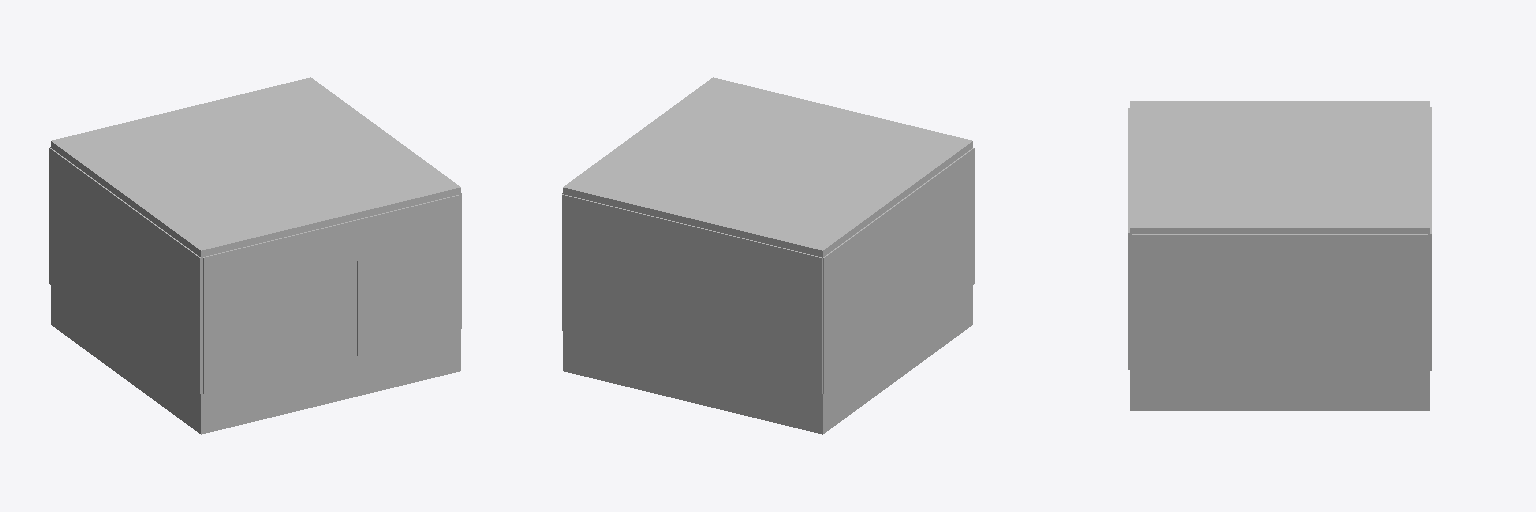
The model's file is 1x1_hotel_room_bend_pos_x_pos_z.obj.
3 renders of one model, left to right at view 1: azimuth 30°, elevation 25°; view 2: azimuth 150°, elevation 25°; view 3: azimuth 270°, elevation 25°, orthographic.
Visible parts, largest first — view 1: UCX_1x1_hotel_room_bend_pos_x_pos_z_09, UCX_1x1_hotel_room_bend_pos_x_pos_z_08, UCX_1x1_hotel_room_bend_pos_x_pos_z_00, UCX_1x1_hotel_room_bend_pos_x_pos_z_05, UCX_1x1_hotel_room_bend_pos_x_pos_z_06, 1x1_hotel_room_bend_pos_x_pos_z, UCX_1x1_hotel_room_bend_pos_x_pos_z_07; view 2: UCX_1x1_hotel_room_bend_pos_x_pos_z_09, UCX_1x1_hotel_room_bend_pos_x_pos_z_01, UCX_1x1_hotel_room_bend_pos_x_pos_z_08, UCX_1x1_hotel_room_bend_pos_x_pos_z_00; view 3: UCX_1x1_hotel_room_bend_pos_x_pos_z_09, UCX_1x1_hotel_room_bend_pos_x_pos_z_02, UCX_1x1_hotel_room_bend_pos_x_pos_z_03, UCX_1x1_hotel_room_bend_pos_x_pos_z_00, 1x1_hotel_room_bend_pos_x_pos_z, UCX_1x1_hotel_room_bend_pos_x_pos_z_04, UCX_1x1_hotel_room_bend_pos_x_pos_z_01.
Boxes of the visible parts, <box> form: UCX_1x1_hotel_room_bend_pos_x_pos_z_09: <box>51,77,460,256</box>; UCX_1x1_hotel_room_bend_pos_x_pos_z_08: <box>49,148,200,393</box>; UCX_1x1_hotel_room_bend_pos_x_pos_z_00: <box>51,286,460,434</box>; UCX_1x1_hotel_room_bend_pos_x_pos_z_05: <box>203,232,305,393</box>; UCX_1x1_hotel_room_bend_pos_x_pos_z_06: <box>357,195,459,355</box>; 1x1_hotel_room_bend_pos_x_pos_z: <box>52,149,460,394</box>; UCX_1x1_hotel_room_bend_pos_x_pos_z_07: <box>305,220,357,272</box>; UCX_1x1_hotel_room_bend_pos_x_pos_z_09: <box>563,77,972,256</box>; UCX_1x1_hotel_room_bend_pos_x_pos_z_01: <box>562,194,822,393</box>; UCX_1x1_hotel_room_bend_pos_x_pos_z_08: <box>823,148,974,393</box>; UCX_1x1_hotel_room_bend_pos_x_pos_z_00: <box>563,286,972,434</box>; UCX_1x1_hotel_room_bend_pos_x_pos_z_09: <box>1130,101,1429,235</box>; UCX_1x1_hotel_room_bend_pos_x_pos_z_02: <box>1310,234,1427,370</box>; UCX_1x1_hotel_room_bend_pos_x_pos_z_03: <box>1132,234,1249,370</box>; UCX_1x1_hotel_room_bend_pos_x_pos_z_00: <box>1130,371,1429,410</box>; 1x1_hotel_room_bend_pos_x_pos_z: <box>1130,233,1429,371</box>; UCX_1x1_hotel_room_bend_pos_x_pos_z_04: <box>1250,234,1309,275</box>; UCX_1x1_hotel_room_bend_pos_x_pos_z_01: <box>1428,107,1431,370</box>.
Size of the model in its own units: 20.2 by 13.5 by 20.2.